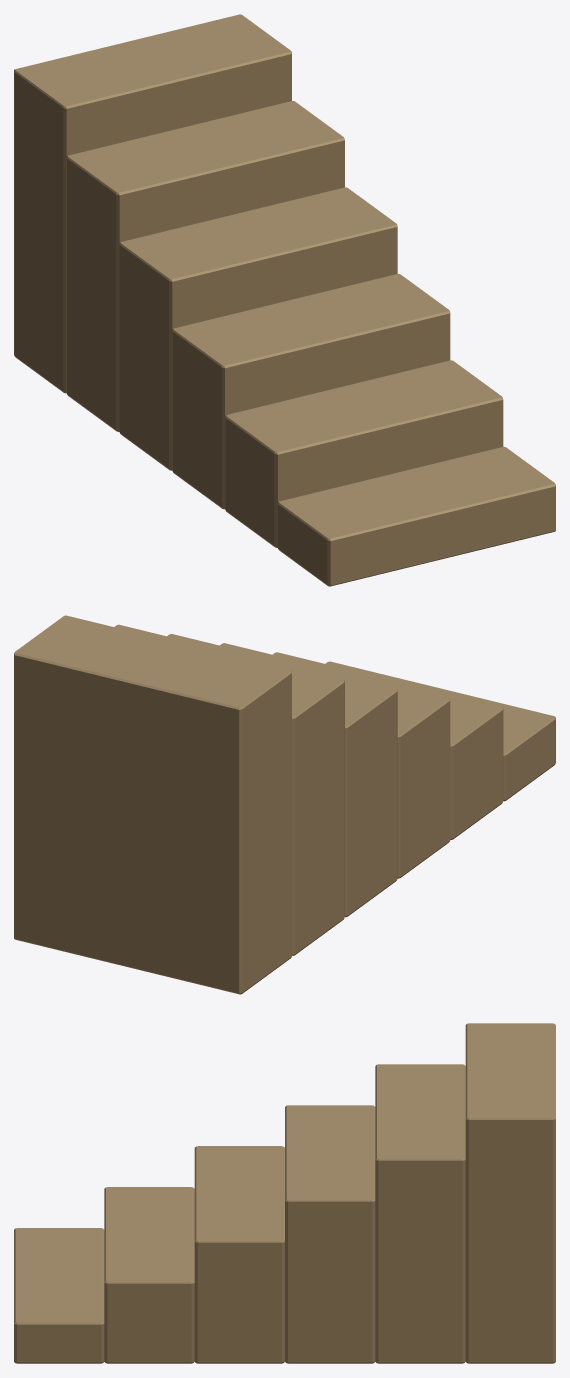
The model's file is stair-narrow.glb.
3 views of the same model, one above another, from view 1: azimuth 30°, elevation 25°; view 2: azimuth 150°, elevation 25°; view 3: azimuth 270°, elevation 25° (orthographic). The views are drawn at different scales.
Parts seen in each view (by area): view 1: stair-narrow__body; view 2: stair-narrow__body; view 3: stair-narrow__body.
Boxes of the visible parts, left/top/right/bottom form: stair-narrow__body: left=14, top=14, right=555, bottom=586; stair-narrow__body: left=14, top=615, right=555, bottom=994; stair-narrow__body: left=14, top=1023, right=555, bottom=1363.
Bounding box in the file's own units: 1 × 1.2 × 2.4.
